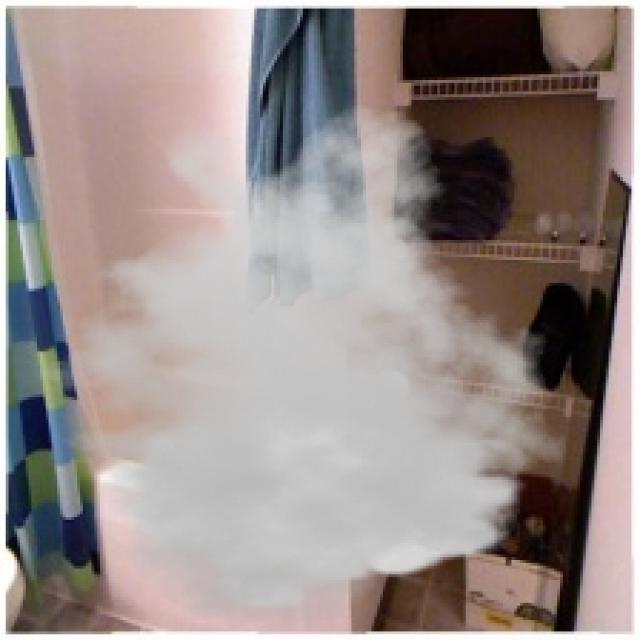smoke: (12, 103, 577, 628)
